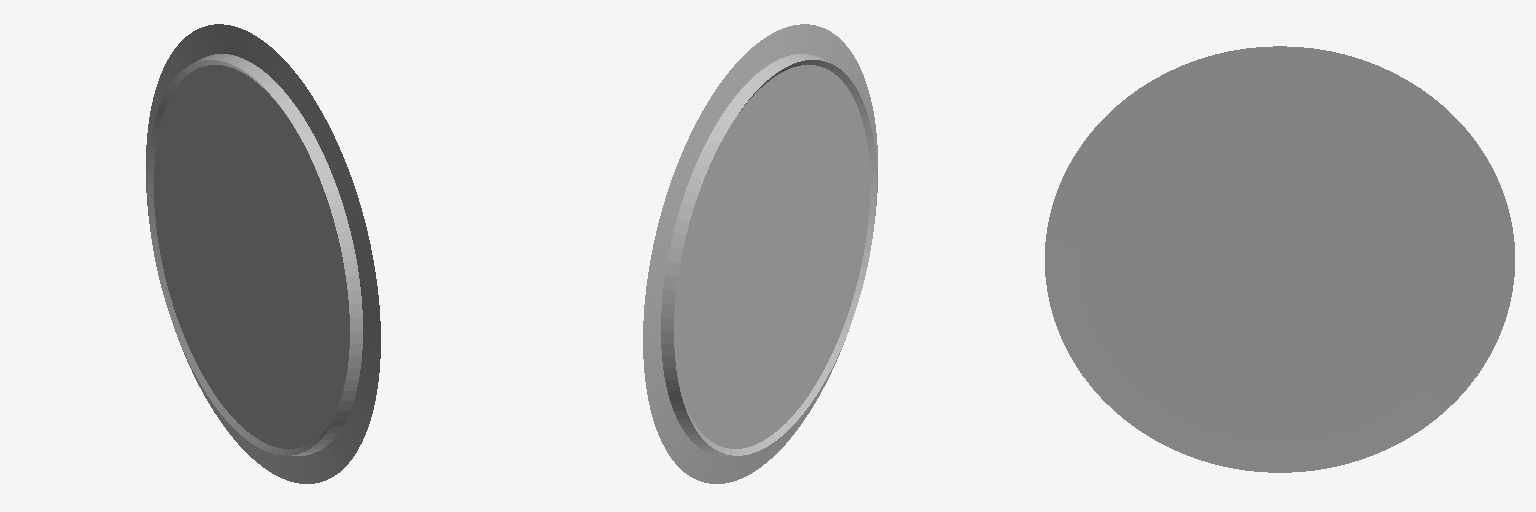
Rendered from Mirror_3.obj.
3 views of the same model, side by side, from view 1: azimuth 30°, elevation 25°; view 2: azimuth 150°, elevation 25°; view 3: azimuth 270°, elevation 25° (orthographic).
Parts seen in each view (by area): view 1: Cylinder_Border; view 2: Cylinder_Border; view 3: Cylinder_Border.
Part boxes in pixels (x1,y1,x2,y2): Cylinder_Border: (146, 24, 380, 483); Cylinder_Border: (643, 24, 877, 483); Cylinder_Border: (1045, 46, 1514, 472).
Size of the model in its own units: 0.1256 by 3.48 by 3.48.